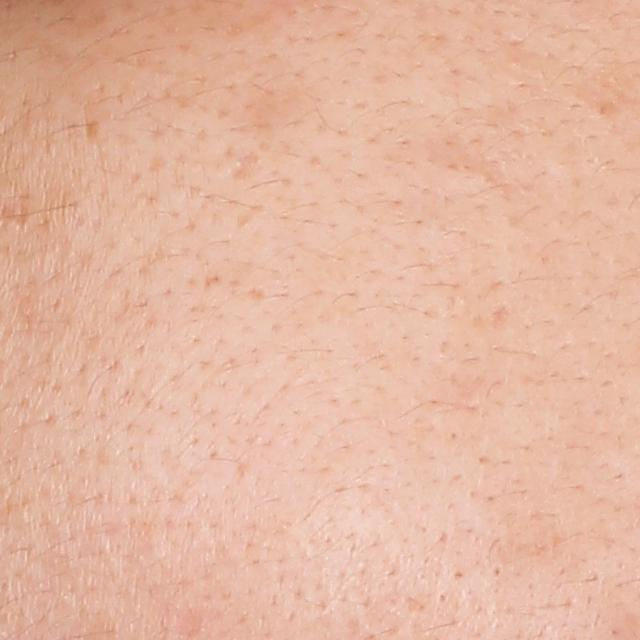atrophic_scar: (427, 133, 507, 187), (227, 150, 261, 184)
